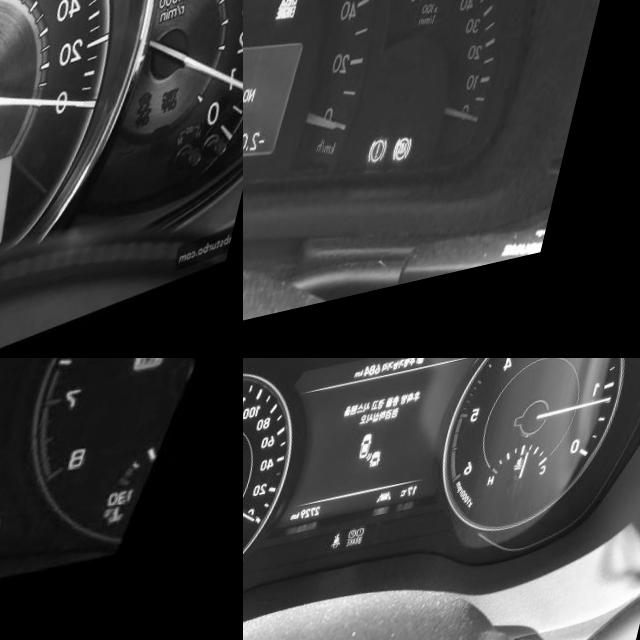LaneCenteringOff: (395, 505, 411, 518)
